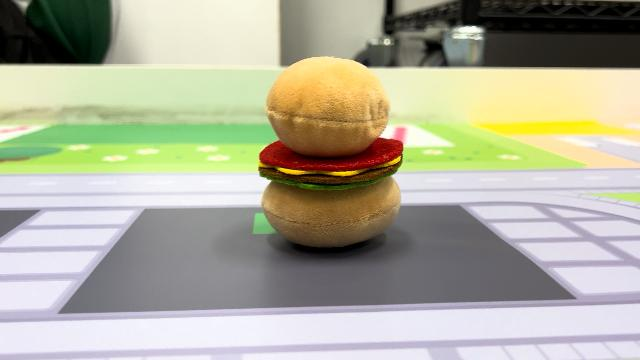burger: (253, 52, 409, 250)
